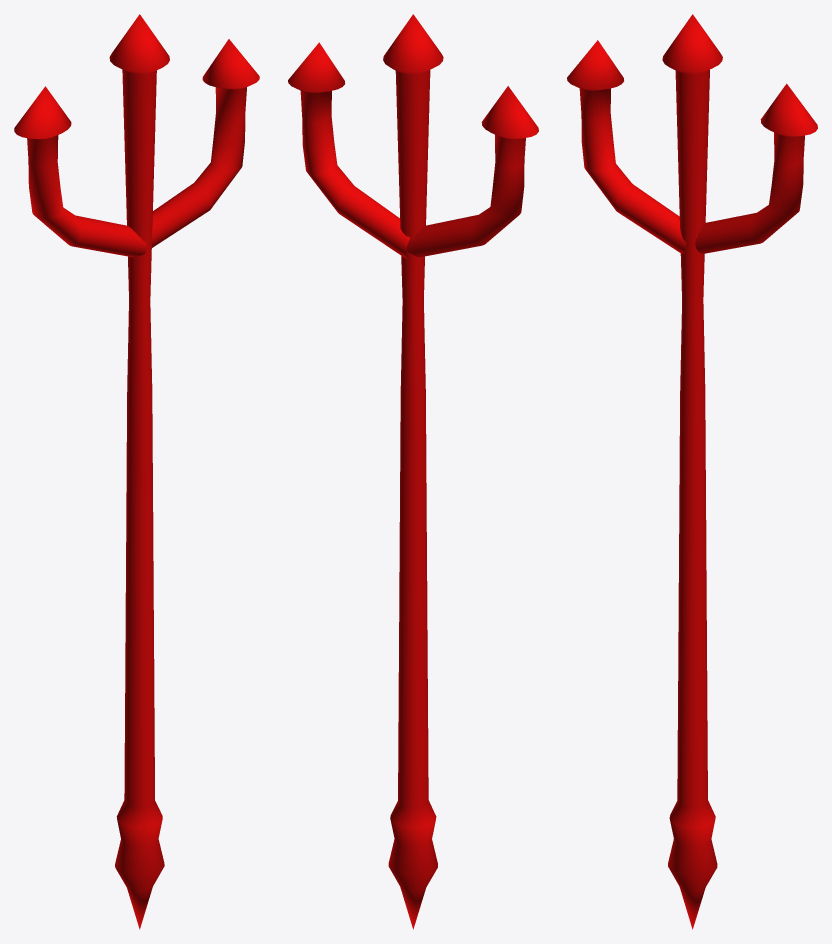
The model's file is pitchfork upgrade 2.fbx.
3 views of the same model, side by side, from view 1: azimuth 30°, elevation 25°; view 2: azimuth 150°, elevation 25°; view 3: azimuth 330°, elevation 25° (orthographic).
Visible parts, largest first — view 1: polySurface7; view 2: polySurface7; view 3: polySurface7.
Boxes of the visible parts, bbox=[...] form: polySurface7: bbox=[14, 14, 259, 929]; polySurface7: bbox=[288, 14, 538, 929]; polySurface7: bbox=[567, 14, 817, 929].
Bounding box in the file's own units: 60.78 × 219 × 13.51.
